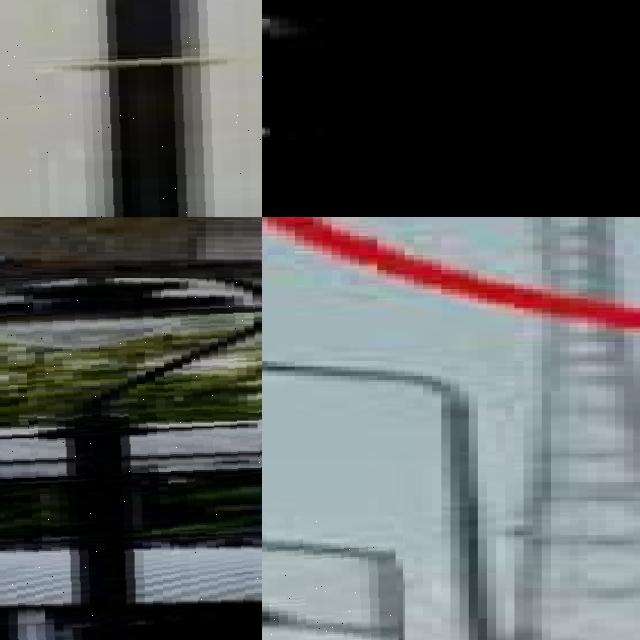street light: (0, 278, 262, 640), (0, 0, 262, 217), (262, 516, 404, 640), (262, 603, 386, 640)
